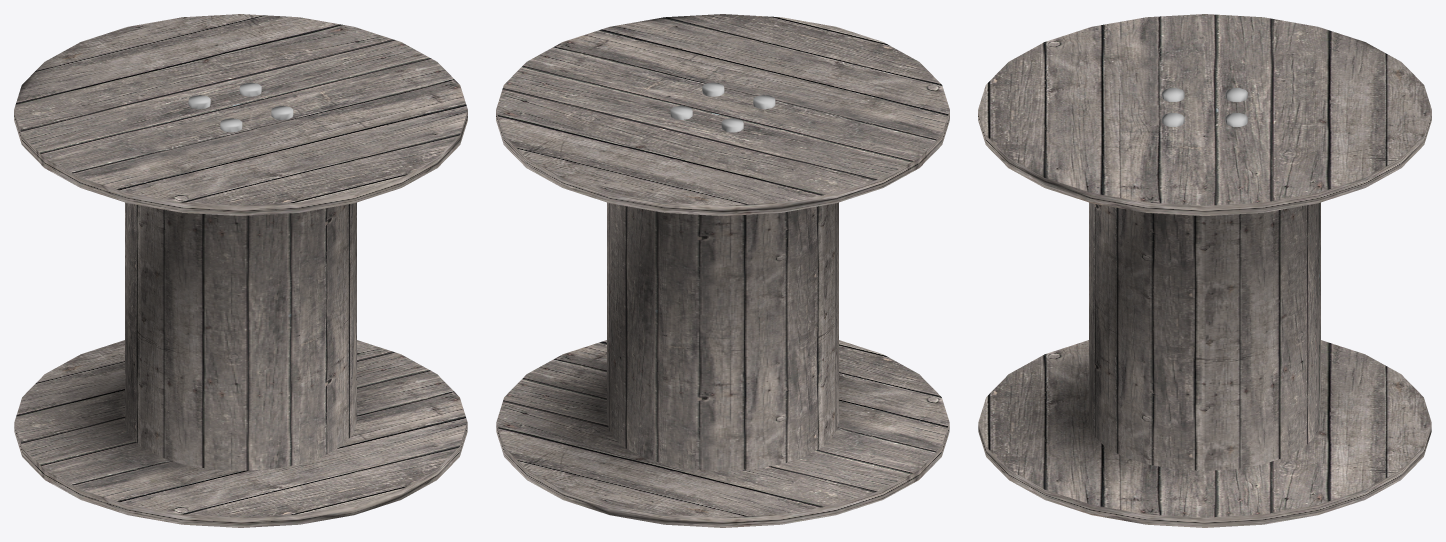
Rendered from cable_drum2.fbx.
3 views of the same model, side by side, from view 1: azimuth 30°, elevation 25°; view 2: azimuth 150°, elevation 25°; view 3: azimuth 270°, elevation 25° (orthographic).
Visible parts, largest first — view 1: Mesh; view 2: Mesh; view 3: Mesh.
Boxes of the visible parts, <box> form: Mesh: <box>14,14,467,527</box>; Mesh: <box>496,14,949,527</box>; Mesh: <box>978,14,1431,527</box>.
Size of the model in its own units: 200 by 162 by 200.
Materials: 2 (1 with a texture image).
